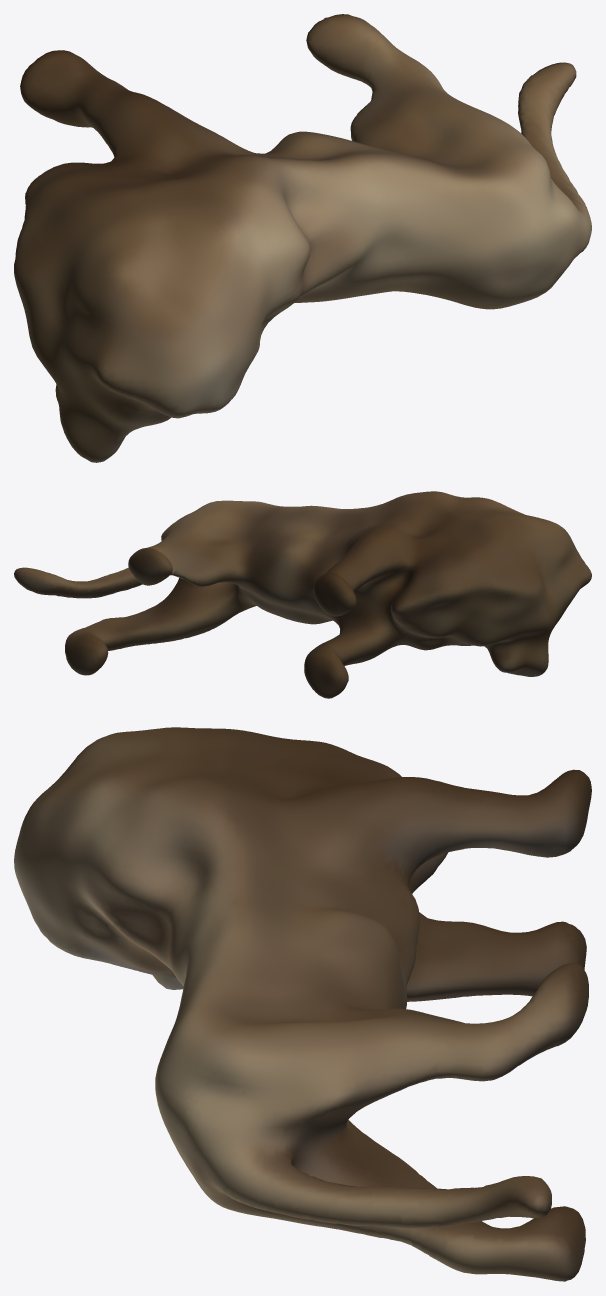
The model's file is lion.glb.
3 views of the same model, one above another, from view 1: azimuth 30°, elevation 25°; view 2: azimuth 150°, elevation 25°; view 3: azimuth 270°, elevation 25° (orthographic). The views are drawn at different scales.
Bounding box in the file's own units: 0.9976 × 0.3527 × 0.6362.
